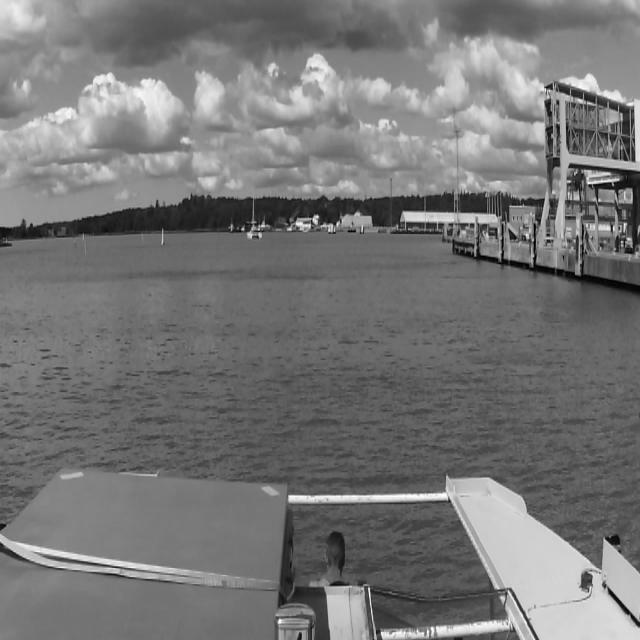buoy: (161, 228, 165, 245), (83, 241, 86, 257), (82, 231, 85, 242)
ship: (247, 183, 263, 245)
